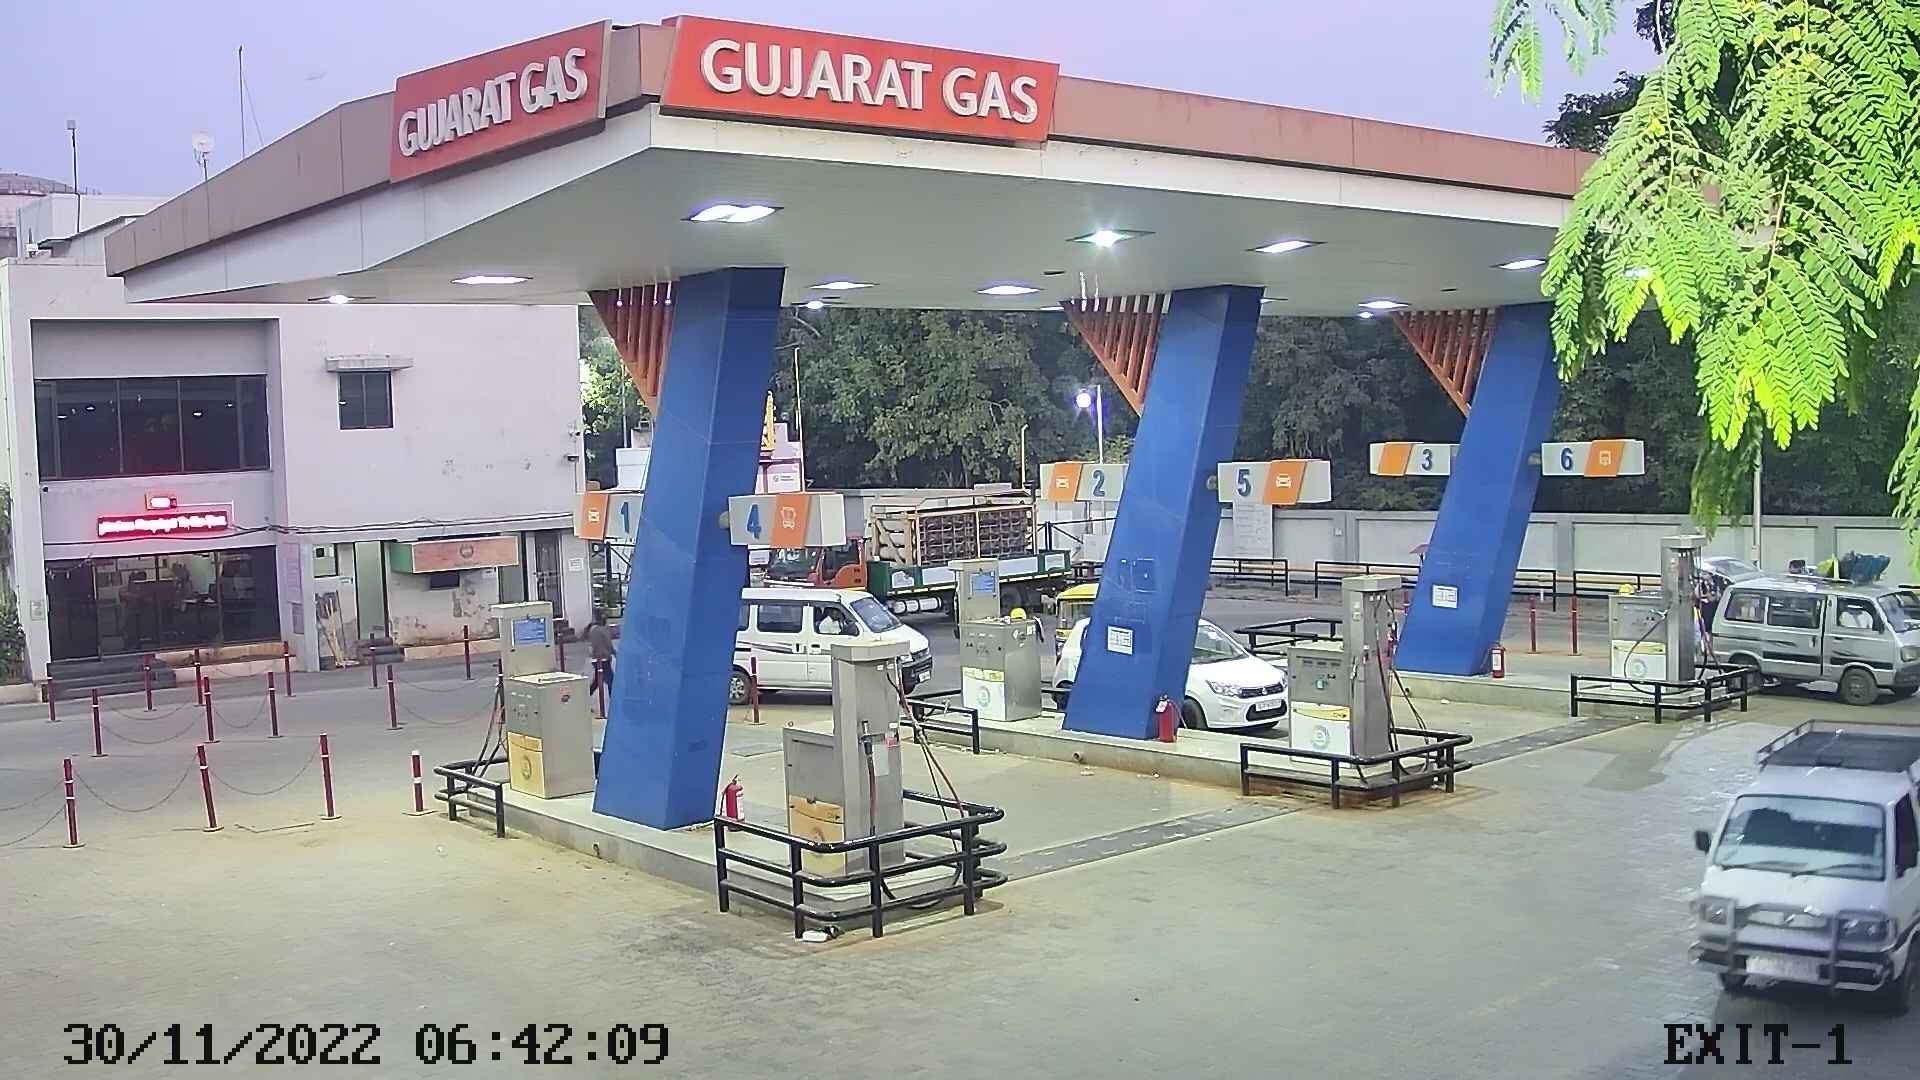Auto: (1044, 572, 1104, 673)
Car: (1680, 705, 1917, 1029), (1680, 537, 1917, 713), (723, 578, 938, 705), (1171, 603, 1298, 746)
HMV: (758, 476, 1079, 624)
